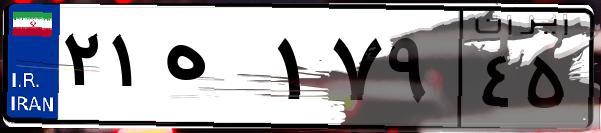1: (270, 28, 330, 110), (110, 28, 158, 98)
2: (57, 26, 110, 100)
4: (475, 38, 525, 113)
5: (525, 38, 570, 115)
7: (330, 28, 385, 110)
9: (385, 28, 445, 110)
ه: (158, 20, 270, 120)
